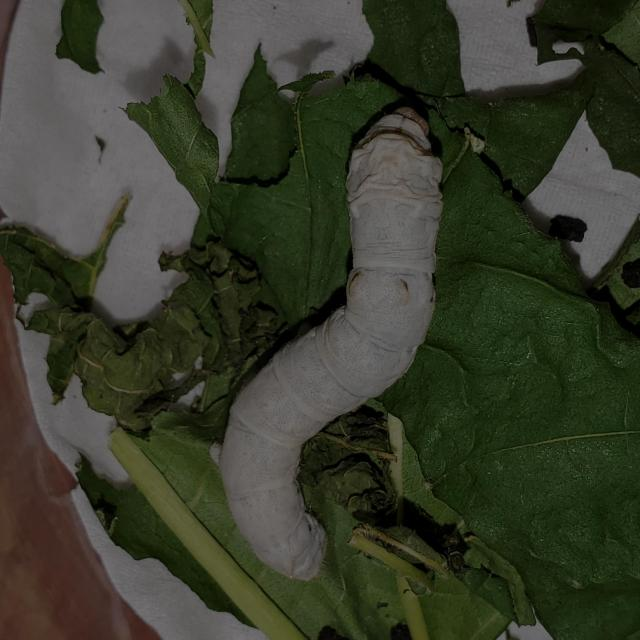Healthy: (212, 102, 450, 582)
